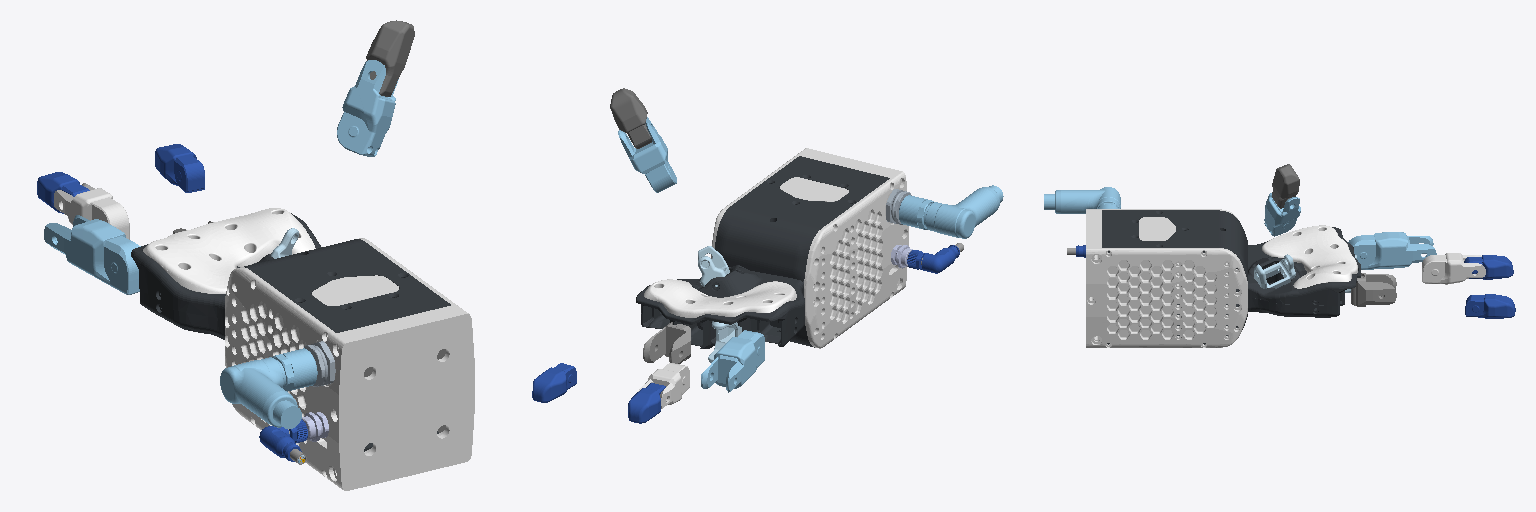
--- What the picture shows (computed from the rendered views, not written in the file) ---
The picture shows the robot from 3 angles, left to right: view 1: azimuth 30°, elevation 25°; view 2: azimuth 150°, elevation 25°; view 3: azimuth 270°, elevation 25°; orthographic projection.
Robot: Artus3D_RightHand — 21 links, 20 joints (20 revolute); root link right_-forearm_and_palm_subassembly; default pose: every joint at zero.
Links seen in each view (by area): view 1: right_-forearm_and_palm_subassembly, part_1_6, part_1_15, part_1_16, part_1_11, d1_urdf_mk_5_3, d1_urdf_mk_5_4; view 2: right_-forearm_and_palm_subassembly, part_1_6, part_1_15, part_1_16, part_1_4, d1_urdf_mk_5_3, part_1_11, d1_urdf_mk_5_4; view 3: right_-forearm_and_palm_subassembly, part_1_6, part_1_11, part_1_4, d1_urdf_mk_5_3, part_1_15, part_1_16, d1_urdf_mk_5_4.
Link boxes in pixels (box(x1,y1,x2,y2)): right_-forearm_and_palm_subassembly: box(131, 208, 474, 490); part_1_6: box(44, 215, 140, 294); part_1_15: box(337, 60, 398, 156); part_1_16: box(366, 20, 414, 96); part_1_11: box(54, 183, 129, 239); d1_urdf_mk_5_3: box(155, 144, 204, 192); d1_urdf_mk_5_4: box(37, 172, 89, 213); right_-forearm_and_palm_subassembly: box(636, 148, 1003, 362); part_1_6: box(701, 330, 764, 392); part_1_15: box(618, 117, 676, 192); part_1_16: box(610, 88, 651, 148); part_1_4: box(643, 322, 690, 363); d1_urdf_mk_5_3: box(532, 363, 576, 402); part_1_11: box(638, 363, 689, 408); d1_urdf_mk_5_4: box(628, 383, 665, 423); right_-forearm_and_palm_subassembly: box(1044, 187, 1360, 347); part_1_6: box(1348, 232, 1436, 269); part_1_11: box(1422, 253, 1485, 284); part_1_4: box(1351, 273, 1396, 306); d1_urdf_mk_5_3: box(1465, 294, 1515, 318); part_1_15: box(1264, 193, 1300, 236); part_1_16: box(1272, 164, 1299, 208); d1_urdf_mk_5_4: box(1464, 255, 1513, 279).
Size in the robot's own frame: 0.155 by 0.2963 by 0.1459 metres.
Meshes: 51 distinct files referenced, 34 mesh visuals loaded (34 binary STL); not drawn: 17 (reference not matched to a file when rendering).

robot.urdf — Artus3D_RightHand:
<robot name="Artus3D_RightHand">
<link name="right_-forearm_and_palm_subassembly">
<visual>
<origin xyz="-0.025099999999999754452 0.013609999999999483622 -0.008062086112100940935" rpy="-1.570796326794896558 1.570796326794896558 0" />
<geometry>
<mesh filename="meshes/connector_2.stl"/>
</geometry>
<material name="connector_2_material">
<color rgba="0.79215686274509800047 0.81960784313725487671 0.93333333333333334814 1.0"/>
</material>
</visual>
<collision>
<origin xyz="-0.025099999999999754452 0.013609999999999483622 -0.008062086112100940935" rpy="-1.570796326794896558 1.570796326794896558 0" />
<geometry>
<mesh filename="meshes/connector_2.stl"/>
</geometry>
</collision>
<visual>
<origin xyz="0.0079999999999999047567 0.17138739999999838548 -0.01336487137623817642" rpy="-3.141592653589793116 5.4234187233944715765e-30 3.0327332911413961158e-16" />
<geometry>
<mesh filename="meshes/front_palm_l.stl"/>
</geometry>
<material name="front_palm_l_material">
<color rgba="0.26274509803921569651 0.28235294117647058432 0.30196078431372547213 1.0"/>
</material>
</visual>
<collision>
<origin xyz="0.0079999999999999047567 0.17138739999999838548 -0.01336487137623817642" rpy="-3.141592653589793116 5.4234187233944715765e-30 3.0327332911413961158e-16" />
<geometry>
<mesh filename="meshes/front_palm_l.stl"/>
</geometry>
</collision>
<visual>
<origin xyz="0.0079999999999999047567 0.17138739999999838548 -0.01336487137623817642" rpy="-3.141592653589793116 5.4234187233944715765e-30 3.0327332911413961158e-16" />
<geometry>
<mesh filename="meshes/r_forearm_back_cover.stl"/>
</geometry>
<material name="r_forearm_back_cover_material">
<color rgba="0.26274509803921569651 0.28235294117647058432 0.30196078431372547213 1.0"/>
</material>
</visual>
<collision>
<origin xyz="0.0079999999999999047567 0.17138739999999838548 -0.01336487137623817642" rpy="-3.141592653589793116 5.4234187233944715765e-30 3.0327332911413961158e-16" />
<geometry>
<mesh filename="meshes/r_forearm_back_cover.stl"/>
</geometry>
</collision>
<visual>
<origin xyz="0.0079999999999999047567 0.17138739999999838548 -0.01336487137623817642" rpy="-3.141592653589793116 5.4234187233944715765e-30 3.0327332911413961158e-16" />
<geometry>
<mesh filename="meshes/back_palm_l.stl"/>
</geometry>
<material name="back_palm_l_material">
<color rgba="0.26274509803921569651 0.28235294117647058432 0.30196078431372547213 1.0"/>
</material>
</visual>
<collision>
<origin xyz="0.0079999999999999047567 0.17138739999999838548 -0.01336487137623817642" rpy="-3.141592653589793116 5.4234187233944715765e-30 3.0327332911413961158e-16" />
<geometry>
<mesh filename="meshes/back_palm_l.stl"/>
</geometry>
</collision>
<visual>
<origin xyz="0.035046330548281989792 0.24589133671515578383 -0.0017148713762385069028" rpy="-3.141592653589793116 -2.5884172552799687698e-15 -1.6406094968746700591" />
<geometry>
<mesh filename="meshes/d5_-_lindex.stl"/>
</geometry>
<material name="d5_-_lindex_material">
<color rgba="0.76862745098039220171 0.88627450980392152857 0.95294117647058818044 1.0"/>
</material>
</visual>
<collision>
<origin xyz="0.035046330548281989792 0.24589133671515578383 -0.0017148713762385069028" rpy="-3.141592653589793116 -2.5884172552799687698e-15 -1.6406094968746700591" />
<geometry>
<mesh filename="meshes/d5_-_lindex.stl"/>
</geometry>
</collision>
<visual>
<origin xyz="-0.057699986999999640369 0.0062349999999995117661 -0.008062086112100940935" rpy="-1.570796326794896558 8.0686821653836969142e-17 -1.7347249794050797149e-16" />
<geometry>
<mesh filename="meshes/7138k48_nano_m8_connector_12.stl"/>
</geometry>
<material name="7138k48_nano_m8_connector_12_material">
<color rgba="0.2313725490196078538 0.38039215686274507888 0.7058823529411765163 1.0"/>
</material>
</visual>
<collision>
<origin xyz="-0.057699986999999640369 0.0062349999999995117661 -0.008062086112100940935" rpy="-1.570796326794896558 8.0686821653836969142e-17 -1.7347249794050797149e-16" />
<geometry>
<mesh filename="meshes/7138k48_nano_m8_connector_12.stl"/>
</geometry>
</collision>
<visual>
<origin xyz="-0.057699986999999640369 0.0062349999999995117661 -0.008062086112100940935" rpy="-1.570796326794896558 8.0686821653836969142e-17 -1.7347249794050797149e-16" />
<geometry>
<mesh filename="meshes/7138k48_nano_m8_connector_1.stl"/>
</geometry>
<material name="7138k48_nano_m8_connector_1_material">
<color rgba="0.98039215686274505668 0.71372549019607844922 0.0039215686274509803377 1.0"/>
</material>
</visual>
<collision>
<origin xyz="-0.057699986999999640369 0.0062349999999995117661 -0.008062086112100940935" rpy="-1.570796326794896558 8.0686821653836969142e-17 -1.7347249794050797149e-16" />
<geometry>
<mesh filename="meshes/7138k48_nano_m8_connector_1.stl"/>
</geometry>
</collision>
<visual>
<origin xyz="0.0080000000000000626166 0.24913739999999620633 -0.004714871376238372741" rpy="3.141592653589793116 -2.522287934070094894e-15 -1.57079632679489678" />
<geometry>
<mesh filename="meshes/d5_-_lmiddle.stl"/>
</geometry>
<material name="d5_-_lmiddle_material">
<color rgba="0.76862745098039220171 0.88627450980392152857 0.95294117647058818044 1.0"/>
</material>
</visual>
<collision>
<origin xyz="0.0080000000000000626166 0.24913739999999620633 -0.004714871376238372741" rpy="3.141592653589793116 -2.522287934070094894e-15 -1.57079632679489678" />
<geometry>
<mesh filename="meshes/d5_-_lmiddle.stl"/>
</geometry>
</collision>
<visual>
<origin xyz="-0.057699986999999640369 0.0062349999999995117661 -0.008062086112100940935" rpy="-1.570796326794896558 8.0686821653836969142e-17 -1.7347249794050797149e-16" />
<geometry>
<mesh filename="meshes/7138k48_nano_m8_connector_5.stl"/>
</geometry>
<material name="7138k48_nano_m8_connector_5_material">
<color rgba="0.91764705882352937127 0.91764705882352937127 0.91764705882352937127 1.0"/>
</material>
</visual>
<collision>
<origin xyz="-0.057699986999999640369 0.0062349999999995117661 -0.008062086112100940935" rpy="-1.570796326794896558 8.0686821653836969142e-17 -1.7347249794050797149e-16" />
<geometry>
<mesh filename="meshes/7138k48_nano_m8_connector_5.stl"/>
</geometry>
</collision>
<visual>
<origin xyz="-0.057699986999999640369 0.0062349999999995117661 -0.008062086112100940935" rpy="-1.570796326794896558 8.0686821653836969142e-17 -1.7347249794050797149e-16" />
<geometry>
<mesh filename="meshes/7138k48_nano_m8_connector_11.stl"/>
</geometry>
<material name="7138k48_nano_m8_connector_11_material">
<color rgba="0.64705882352941179736 0.64705882352941179736 0.64705882352941179736 1.0"/>
</material>
</visual>
<collision>
<origin xyz="-0.057699986999999640369 0.0062349999999995117661 -0.008062086112100940935" rpy="-1.570796326794896558 8.0686821653836969142e-17 -1.7347249794050797149e-16" />
<geometry>
<mesh filename="meshes/7138k48_nano_m8_connector_11.stl"/>
</geometry>
</collision>
<visual>
<origin xyz="0.0079999999999999047567 0.17138739999999838548 -0.01336487137623817642" rpy="-3.141592653589793116 5.4234187233944715765e-30 3.0327332911413961158e-16" />
<geometry>
<mesh filename="meshes/forearm_base_plate.stl"/>
</geometry>
<material name="forearm_base_plate_material">
<color rgba="0.91764705882352937127 0.91764705882352937127 0.91764705882352937127 1.0"/>
</material>
</visual>
<collision>
<origin xyz="0.0079999999999999047567 0.17138739999999838548 -0.01336487137623817642" rpy="-3.141592653589793116 5.4234187233944715765e-30 3.0327332911413961158e-16" />
<geometry>
<mesh filename="meshes/forearm_base_plate.stl"/>
</geometry>
</collision>
<visual>
<origin xyz="-0.057699986999999640369 0.0062349999999995117661 -0.008062086112100940935" rpy="-1.570796326794896558 8.0686821653836969142e-17 -1.7347249794050797149e-16" />
<geometry>
<mesh filename="meshes/7138k48_nano_m8_connector_4.stl"/>
</geometry>
<material name="7138k48_nano_m8_connector_4_material">
<color rgba="0.2313725490196078538 0.38039215686274507888 0.7058823529411765163 1.0"/>
</material>
</visual>
<collision>
<origin xyz="-0.057699986999999640369 0.0062349999999995117661 -0.008062086112100940935" rpy="-1.570796326794896558 8.0686821653836969142e-17 -1.7347249794050797149e-16" />
<geometry>
<mesh filename="meshes/7138k48_nano_m8_connector_4.stl"/>
</geometry>
</collision>
<visual>
<origin xyz="-0.018149999999999777422 0.013609999999999566889 0.020237913887898896503" rpy="1.57079632679489678 0.52359877559830048099 1.570796326794896558" />
<geometry>
<mesh filename="meshes/c-t4140l12041-000.stl"/>
</geometry>
<material name="c-t4140l12041-000_material">
<color rgba="0.6941176470588235059 0.74117647058823532547 0.78823529411764703401 1.0"/>
</material>
</visual>
<collision>
<origin xyz="-0.018149999999999777422 0.013609999999999566889 0.020237913887898896503" rpy="1.57079632679489678 0.52359877559830048099 1.570796326794896558" />
<geometry>
<mesh filename="meshes/c-t4140l12041-000.stl"/>
</geometry>
</collision>
<visual>
<origin xyz="0.063565230829046442951 0.11880288651812657974 0.083840252677282151028" rpy="-2.0752759914175729072 1.0057357117289735804 3.1415926535897926719" />
<geometry>
<mesh filename="meshes/t5.stl"/>
</geometry>
<material name="t5_material">
<color rgba="0.76862745098039220171 0.88627450980392152857 0.95294117647058818044 1.0"/>
</material>
</visual>
<collision>
<origin xyz="0.063565230829046442951 0.11880288651812657974 0.083840252677282151028" rpy="-2.0752759914175729072 1.0057357117289735804 3.1415926535897926719" />
<geometry>
<mesh filename="meshes/t5.stl"/>
</geometry>
</collision>
<visual>
<origin xyz="-0.057699986999999640369 0.0062349999999995117661 -0.008062086112100940935" rpy="-1.570796326794896558 8.0686821653836969142e-17 -1.7347249794050797149e-16" />
<geometry>
<mesh filename="meshes/7138k48_nano_m8_connector_6.stl"/>
</geometry>
<material name="7138k48_nano_m8_connector_6_material">
<color rgba="0.76862745098039220171 0.88627450980392152857 0.95294117647058818044 1.0"/>
</material>
</visual>
<collision>
<origin xyz="-0.057699986999999640369 0.0062349999999995117661 -0.008062086112100940935" rpy="-1.570796326794896558 8.0686821653836969142e-17 -1.7347249794050797149e-16" />
<geometry>
<mesh filename="meshes/7138k48_nano_m8_connector_6.stl"/>
</geometry>
</collision>
<visual>
<origin xyz="-0.039349999999999704658 0.014171490036537262927 0.019987922417117141155" rpy="-1.57079632679489678 -2.3314683517128326792e-15 -1.570796326794896558" />
<geometry>
<mesh filename="meshes/c-t41514c9l14-002.stl"/>
</geometry>
<material name="c-t41514c9l14-002_material">
<color rgba="0.61568627450980395466 0.81176470588235294379 0.92941176470588238168 1.0"/>
</material>
</visual>
<collision>
<origin xyz="-0.039349999999999704658 0.014171490036537262927 0.019987922417117141155" rpy="-1.57079632679489678 -2.3314683517128326792e-15 -1.570796326794896558" />
<geometry>
<mesh filename="meshes/c-t41514c9l14-002.stl"/>
</geometry>
</collision>
<visual>
<origin xyz="0.0079999999999999047567 0.17138739999999838548 -0.01336487137623817642" rpy="-3.141592653589793116 5.4234187233944715765e-30 3.0327332911413961158e-16" />
<geometry>
<mesh filename="meshes/r_pinky_side_forearm_cover.stl"/>
</geometry>
<material name="r_pinky_side_forearm_cover_material">
<color rgba="0.91764705882352937127 0.91764705882352937127 0.91764705882352937127 1.0"/>
</material>
</visual>
<collision>
<origin xyz="0.0079999999999999047567 0.17138739999999838548 -0.01336487137623817642" rpy="-3.141592653589793116 5.4234187233944715765e-30 3.0327332911413961158e-16" />
<geometry>
<mesh filename="meshes/r_pinky_side_forearm_cover.stl"/>
</geometry>
</collision>
<visual>
<origin xyz="0.0079999999999999047567 0.17138739999999838548 -0.01336487137623817642" rpy="-3.141592653589793116 5.4234187233944715765e-30 3.0327332911413961158e-16" />
<geometry>
<mesh filename="meshes/r_forearm_front_cover.stl"/>
</geometry>
<material name="r_forearm_front_cover_material">
<color rgba="0.26274509803921569651 0.28235294117647058432 0.30196078431372547213 1.0"/>
</material>
</visual>
<collision>
<origin xyz="0.0079999999999999047567 0.17138739999999838548 -0.01336487137623817642" rpy="-3.141592653589793116 5.4234187233944715765e-30 3.0327332911413961158e-16" />
<geometry>
<mesh filename="meshes/r_forearm_front_cover.stl"/>
</geometry>
</collision>
<visual>
<origin xyz="-0.057699986999999640369 0.0062349999999995117661 -0.008062086112100940935" rpy="-1.570796326794896558 8.0686821653836969142e-17 -1.7347249794050797149e-16" />
<geometry>
<mesh filename="meshes/7138k48_nano_m8_connector_9.stl"/>
</geometry>
<material name="7138k48_nano_m8_connector_9_material">
<color rgba="0.98039215686274505668 0.71372549019607844922 0.0039215686274509803377 1.0"/>
</material>
</visual>
<collision>
<origin xyz="-0.057699986999999640369 0.0062349999999995117661 -0.008062086112100940935" rpy="-1.570796326794896558 8.0686821653836969142e-17 -1.7347249794050797149e-16" />
<geometry>
<mesh filename="meshes/7138k48_nano_m8_connector_9.stl"/>
</geometry>
</collision>
<visual>
<origin xyz="-0.057699986999999640369 0.0062349999999995117661 -0.008062086112100940935" rpy="-1.570796326794896558 8.0686821653836969142e-17 -1.7347249794050797149e-16" />
<geometry>
<mesh filename="meshes/7138k48_nano_m8_connector_3.stl"/>
</geometry>
<material name="7138k48_nano_m8_connector_3_material">
<color rgba="0.64705882352941179736 0.64705882352941179736 0.64705882352941179736 1.0"/>
</material>
</visual>
<collision>
<origin xyz="-0.057699986999999640369 0.0062349999999995117661 -0.008062086112100940935" rpy="-1.570796326794896558 8.0686821653836969142e-17 -1.7347249794050797149e-16" />
<geometry>
<mesh filename="meshes/7138k48_nano_m8_connector_3.stl"/>
</geometry>
</collision>
<visual>
<origin xyz="0.0079999999999999047567 0.17138739999999838548 -0.01336487137623817642" rpy="-3.141592653589793116 5.4234187233944715765e-30 3.0327332911413961158e-16" />
<geometry>
<mesh filename="meshes/forearm_front_heat_sink.stl"/>
</geometry>
<material name="forearm_front_heat_sink_material">
<color rgba="0.91764705882352937127 0.91764705882352937127 0.91764705882352937127 1.0"/>
</material>
</visual>
<collision>
<origin xyz="0.0079999999999999047567 0.17138739999999838548 -0.01336487137623817642" rpy="-3.141592653589793116 5.4234187233944715765e-30 3.0327332911413961158e-16" />
<geometry>
<mesh filename="meshes/forearm_front_heat_sink.stl"/>
</geometry>
</collision>
<visual>
<origin xyz="0.0080000000000000626166 0.17138739999999766384 -0.013364871376237964784" rpy="-3.1415926535897913396 1.4313686678903757259e-16 -1.1112954754289874996e-16" />
<geometry>
<mesh filename="meshes/palm_back_r.stl"/>
</geometry>
<material name="palm_back_r_material">
<color rgba="0.26274509803921569651 0.28235294117647058432 0.30196078431372547213 1.0"/>
</material>
</visual>
<collision>
<origin xyz="0.0080000000000000626166 0.17138739999999766384 -0.013364871376237964784" rpy="-3.1415926535897913396 1.4313686678903757259e-16 -1.1112954754289874996e-16" />
<geometry>
<mesh filename="meshes/palm_back_r.stl"/>
</geometry>
</collision>
<visual>
<origin xyz="-0.043294010592354839617 0.23659652304098566233 0.0012851286237618407549" rpy="3.1415926535897926719 6.6319954883948787931e-16 -1.4486232791552933197" />
<geometry>
<mesh filename="meshes/d5_-_lpinky.stl"/>
</geometry>
<material name="d5_-_lpinky_material">
<color rgba="0.76862745098039220171 0.88627450980392152857 0.95294117647058818044 1.0"/>
</material>
</visual>
<collision>
<origin xyz="-0.043294010592354839617 0.23659652304098566233 0.0012851286237618407549" rpy="3.1415926535897926719 6.6319954883948787931e-16 -1.4486232791552933197" />
<geometry>
<mesh filename="meshes/d5_-_lpinky.stl"/>
</geometry>
</collision>
<visual>
<origin xyz="-0.057699986999999640369 0.0062349999999995117661 -0.008062086112100940935" rpy="-1.570796326794896558 8.0686821653836969142e-17 -1.7347249794050797149e-16" />
<geometry>
<mesh filename="meshes/7138k48_nano_m8_connector_10.stl"/>
</geometry>
<material name="7138k48_nano_m8_connector_10_material">
<color rgba="0.61568627450980395466 0.81176470588235294379 0.92941176470588238168 1.0"/>
</material>
</visual>
<collision>
<origin xyz="-0.057699986999999640369 0.0062349999999995117661 -0.008062086112100940935" rpy="-1.570796326794896558 8.0686821653836969142e-17 -1.7347249794050797149e-16" />
<geometry>
<mesh filename="meshes/7138k48_nano_m8_connector_10.stl"/>
</geometry>
</collision>
<visual>
<origin xyz="0.0078000000000005287326 0.17138739999999619279 -0.013364871376237884987" rpy="-3.1415926535897917837 8.0686821653871950193e-17 -1.688474150743110369e-16" />
<geometry>
<mesh filename="meshes/palm_front_r.stl"/>
</geometry>
<material name="palm_front_r_material">
<color rgba="0.26274509803921569651 0.28235294117647058432 0.30196078431372547213 1.0"/>
</material>
</visual>
<collision>
<origin xyz="0.0078000000000005287326 0.17138739999999619279 -0.013364871376237884987" rpy="-3.1415926535897917837 8.0686821653871950193e-17 -1.688474150743110369e-16" />
<geometry>
<mesh filename="meshes/palm_front_r.stl"/>
</geometry>
</collision>
<visual>
<origin xyz="-0.057699986999999640369 0.0062349999999995117661 -0.008062086112100940935" rpy="-1.570796326794896558 8.0686821653836969142e-17 -1.7347249794050797149e-16" />
<geometry>
<mesh filename="meshes/7138k48_nano_m8_connector_7.stl"/>
</geometry>
<material name="7138k48_nano_m8_connector_7_material">
<color rgba="0.97254901960784312376 0.52941176470588235947 0.0039215686274509803377 1.0"/>
</material>
</visual>
<collision>
<origin xyz="-0.057699986999999640369 0.0062349999999995117661 -0.008062086112100940935" rpy="-1.570796326794896558 8.0686821653836969142e-17 -1.7347249794050797149e-16" />
<geometry>
<mesh filename="meshes/7138k48_nano_m8_connector_7.stl"/>
</geometry>
</collision>
<visual>
<origin xyz="-0.057699986999999640369 0.0062349999999995117661 -0.008062086112100940935" rpy="-1.570796326794896558 8.0686821653836969142e-17 -1.7347249794050797149e-16" />
<geometry>
<mesh filename="meshes/7138k48_nano_m8_connector_8.stl"/>
</geometry>
<material name="7138k48_nano_m8_connector_8_material">
<color rgba="0.49803921568627451677 0.49803921568627451677 0.49803921568627451677 1.0"/>
</material>
</visual>
<collision>
<origin xyz="-0.057699986999999640369 0.0062349999999995117661 -0.008062086112100940935" rpy="-1.570796326794896558 8.0686821653836969142e-17 -1.7347249794050797149e-16" />
<geometry>
<mesh filename="meshes/7138k48_nano_m8_connector_8.stl"/>
</geometry>
</collision>
<visual>
<origin xyz="0.0079999999999999047567 0.17138739999999838548 -0.01336487137623817642" rpy="-3.141592653589793116 5.4234187233944715765e-30 3.0327332911413961158e-16" />
<geometry>
<mesh filename="meshes/r_thumb_side_forearm_cover.stl"/>
</geometry>
<material name="r_thumb_side_forearm_cover_material">
<color rgba="0.91764705882352937127 0.91764705882352937127 0.91764705882352937127 1.0"/>
</material>
</visual>
<collision>
<origin xyz="0.0079999999999999047567 0.17138739999999838548 -0.01336487137623817642" rpy="-3.141592653589793116 5.4234187233944715765e-30 3.0327332911413961158e-16" />
<geometry>
<mesh filename="meshes/r_thumb_side_forearm_cover.stl"/>
</geometry>
</collision>
<visual>
<origin xyz="0.0078000000000005287326 0.17138739999999630381 -0.01336487137623786764" rpy="-3.1415926535897904515 8.0686821653872048801e-17 -4.6259492041892851877e-16" />
<geometry>
<mesh filename="meshes/palm_grip.stl"/>
</geometry>
<material name="palm_grip_material">
<color rgba="1 1 1 1.0"/>
</material>
</visual>
<collision>
<origin xyz="0.0078000000000005287326 0.17138739999999630381 -0.01336487137623786764" rpy="-3.1415926535897904515 8.0686821653872048801e-17 -4.6259492041892851877e-16" />
<geometry>
<mesh filename="meshes/palm_grip.stl"/>
</geometry>
</collision>
<visual>
<origin xyz="-0.057699986999999640369 0.0062349999999995117661 -0.008062086112100940935" rpy="-1.570796326794896558 8.0686821653836969142e-17 -1.7347249794050797149e-16" />
<geometry>
<mesh filename="meshes/7138k48_nano_m8_connector_2.stl"/>
</geometry>
<material name="7138k48_nano_m8_connector_2_material">
<color rgba="0.61568627450980395466 0.81176470588235294379 0.92941176470588238168 1.0"/>
</material>
</visual>
<collision>
<origin xyz="-0.057699986999999640369 0.0062349999999995117661 -0.008062086112100940935" rpy="-1.570796326794896558 8.0686821653836969142e-17 -1.7347249794050797149e-16" />
<geometry>
<mesh filename="meshes/7138k48_nano_m8_connector_2.stl"/>
</geometry>
</collision>
<visual>
<origin xyz="-0.018788342132245831884 0.24450351508949383361 -0.0017148713762382148187" rpy="3.141592653589793116 5.9969295794072213994e-16 -1.500983156715123279" />
<geometry>
<mesh filename="meshes/d5-_lring.stl"/>
</geometry>
<material name="d5-_lring_material">
<color rgba="0.76862745098039220171 0.88627450980392152857 0.95294117647058818044 1.0"/>
</material>
</visual>
<collision>
<origin xyz="-0.018788342132245831884 0.24450351508949383361 -0.0017148713762382148187" rpy="3.141592653589793116 5.9969295794072213994e-16 -1.500983156715123279" />
<geometry>
<mesh filename="meshes/d5-_lring.stl"/>
</geometry>
</collision>
<inertial>
<origin xyz="-9.9999382089141890533e-05 0.064166608240781700112 0.0017225184058983781989" rpy="0 0 0"/>
<mass value="0.25195305876702372982" />
<inertia ixx="0.00086496244124082528014" ixy="7.3010115954321035711e-07"  ixz="1.8030521852168538022e-06" iyy="0.00020193692035790235641" iyz="-1.1068846188418243752e-06" izz="0.00090898002504705924937" />
</inertial>
</link>

<link name="part_1_1">
<visual>
<origin xyz="-0.0049999999999999489297 1.2143064331837649661e-17 -0.018500000000000099698" rpy="-1.4485681946286612004e-16 8.5979375613828697011e-16 -1.3871124876468463117e-18" />
<geometry>
<mesh filename="meshes/part_1_1.stl"/>
</geometry>
<material name="part_1_1_material">
<color rgba="0.64705882352941179736 0.64705882352941179736 0.64705882352941179736 1.0"/>
</material>
</visual>
<collision>
<origin xyz="-0.0049999999999999489297 1.2143064331837649661e-17 -0.018500000000000099698" rpy="-1.4485681946286612004e-16 8.5979375613828697011e-16 -1.3871124876468463117e-18" />
<geometry>
<mesh filename="meshes/part_1_1.stl"/>
</geometry>
</collision>
<inertial>
<origin xyz="0 0 0" rpy="0 0 0"/>
<mass value="0" />
<inertia ixx="0" ixy="0"  ixz="0" iyy="0" iyz="0" izz="0" />
</inertial>
</link>

<link name="part_1_6">
<visual>
<origin xyz="-0.028552407289709619276 -0.007858976793889109122 -0.0060000000000051314369" rpy="-1.570796326794896558 9.2087746988800280313e-16 -3.4737542986285525174e-21" />
<geometry>
<mesh filename="meshes/part_1_6.stl"/>
</geometry>
<material name="part_1_6_material">
<color rgba="0.61568627450980395466 0.81176470588235294379 0.92941176470588238168 1.0"/>
</material>
</visual>
<collision>
<origin xyz="-0.028552407289709619276 -0.007858976793889109122 -0.0060000000000051314369" rpy="-1.570796326794896558 9.2087746988800280313e-16 -3.4737542986285525174e-21" />
<geometry>
<mesh filename="meshes/part_1_6.stl"/>
</geometry>
</collision>
<inertial>
<origin xyz="0 0 0" rpy="0 0 0"/>
<mass value="0" />
<inertia ixx="0" ixy="0"  ixz="0" iyy="0" iyz="0" izz="0" />
</inertial>
</link>

<link name="part_1_12">
<visual>
<origin xyz="-0.01752480301803874263 -0.0071295923980049134491 -0.0050000000000002091383" rpy="-1.5707963267948970021 3.7809615218215366599e-16 5.4045675959656930847e-20" />
<geometry>
<mesh filename="meshes/part_1_12.stl"/>
</geometry>
<material name="part_1_12_material">
<color rgba="0.91764705882352937127 0.91764705882352937127 0.91764705882352937127 1.0"/>
</material>
</visual>
<collision>
<origin xyz="-0.01752480301803874263 -0.0071295923980049134491 -0.0050000000000002091383" rpy="-1.5707963267948970021 3.7809615218215366599e-16 5.4045675959656930847e-20" />
<geometry>
<mesh filename="meshes/part_1_12.stl"/>
</geometry>
</collision>
<inertial>
<origin xyz="0 0 0" rpy="0 0 0"/>
<mass value="0" />
<inertia ixx="0" ixy="0"  ixz="0" iyy="0" iyz="0" izz="0" />
</inertial>
</link>

<link name="d1_urdf_mk_5_1">
<visual>
<origin xyz="-0.0090000000000002022826 -0.0059999999999999636957 -0.0047499999999967203873" rpy="-1.5707963267948961139 7.5354498513863890534e-17 -1.4565185079904793187e-20" />
<geometry>
<mesh filename="meshes/d1_urdf_mk_5_1.stl"/>
</geometry>
<material name="d1_urdf_mk_5_1_material">
<color rgba="0.2313725490196078538 0.38039215686274507888 0.7058823529411765163 1.0"/>
</material>
</visual>
<collision>
<origin xyz="-0.0090000000000002022826 -0.0059999999999999636957 -0.0047499999999967203873" rpy="-1.5707963267948961139 7.5354498513863890534e-17 -1.4565185079904793187e-20" />
<geometry>
<mesh filename="meshes/d1_urdf_mk_5_1.stl"/>
</geometry>
</collision>
<inertial>
<origin xyz="0 0 0" rpy="0 0 0"/>
<mass value="0" />
<inertia ixx="0" ixy="0"  ixz="0" iyy="0" iyz="0" izz="0" />
</inertial>
</link>

<joint name="Rpinky_34" type="revolute">
<origin xyz="-0.024999999999999994449 -2.8839777788114417945e-17 -0.00025000000000002277345" rpy="5.8531950530088390355e-17 5.1950536919798949372e-15 -1.5054163260527307232e-16" />
<parent link="part_1_12" />
<child link="d1_urdf_mk_5_1" />
<axis xyz="0 0 1"/>
<limit effort="1" velocity="20" lower="0" upper="1.570796326794896558"/>
<joint_properties friction="0.0"/>
</joint>

<joint name="Rpinky_23" type="revolute">
<origin xyz="-0.038000000000001005196 0.00075000000000000435242 -0.00075000000000013423984" rpy="-5.1007064378828638753e-19 -7.4453180216764473775e-15 -4.1004953941860625937e-19" />
<parent link="part_1_6" />
<child link="part_1_12" />
<axis xyz="0 0 1"/>
<limit effort="1" velocity="20" lower="0" upper="1.570796326794896558"/>
<joint_properties friction="0.0"/>
</joint>

<joint name="Rpinky_12" type="revolute">
<origin xyz="-0.014749999999999929834 -0.0060000000000000018596 -0.0095000000000000431322" rpy="1.570796326794896558 -0.00021543111717824177799 6.0797937546296663372e-15" />
<parent link="part_1_1" />
<child link="part_1_6" />
<axis xyz="0 0 1"/>
<limit effort="1" velocity="20" lower="0" upper="1.570796326794896558"/>
<joint_properties friction="0.0"/>
</joint>

<joint name="Rpinky_01" type="revolute">
<origin xyz="-0.033818669142604805555 0.15942605975087462133 -0.007464871376238052525" rpy="3.1415926535897926719 1.0399088061438540206e-15 -1.4486232791552933197" />
<parent link="right_-forearm_and_palm_subassembly" />
<child link="part_1_1" />
<axis xyz="0 0 1"/>
<limit effort="1" velocity="20" lower="-0.29670597283903604735" upper="0.29670597283903604735"/>
<joint_properties friction="0.0"/>
</joint>

<link name="part_1_2">
<visual>
<origin xyz="-0.0049999999999999489297 1.4528309111305759416e-17 -0.018500000000000103167" rpy="-1.4485681946286604609e-16 8.5979375613828716732e-16 7.2214627010546480255e-18" />
<geometry>
<mesh filename="meshes/part_1_2.stl"/>
</geometry>
<material name="part_1_2_material">
<color rgba="0.64705882352941179736 0.64705882352941179736 0.64705882352941179736 1.0"/>
</material>
</visual>
<collision>
<origin xyz="-0.0049999999999999489297 1.4528309111305759416e-17 -0.018500000000000103167" rpy="-1.4485681946286604609e-16 8.5979375613828716732e-16 7.2214627010546480255e-18" />
<geometry>
<mesh filename="meshes/part_1_2.stl"/>
</geometry>
</collision>
<inertial>
<origin xyz="0 0 0" rpy="0 0 0"/>
<mass value="0" />
<inertia ixx="0" ixy="0"  ixz="0" iyy="0" iyz="0" izz="0" />
</inertial>
</link>

<link name="part_1_7">
<visual>
<origin xyz="-0.028552407289709647031 -0.0078589767938891923887 -0.0060000000000051149571" rpy="-1.570796326794896558 9.199491557559354721e-16 -2.1514047435132745453e-18" />
<geometry>
<mesh filename="meshes/part_1_7.stl"/>
</geometry>
<material name="part_1_7_material">
<color rgba="0.61568627450980395466 0.81176470588235294379 0.92941176470588238168 1.0"/>
</material>
</visual>
<collision>
<origin xyz="-0.028552407289709647031 -0.0078589767938891923887 -0.0060000000000051149571" rpy="-1.570796326794896558 9.199491557559354721e-16 -2.1514047435132745453e-18" />
<geometry>
<mesh filename="meshes/part_1_7.stl"/>
</geometry>
</collision>
<inertial>
<origin xyz="0 0 0" rpy="0 0 0"/>
<mass value="0" />
<inertia ixx="0" ixy="0"  ixz="0" iyy="0" iyz="0" izz="0" />
</inertial>
</link>

<link name="part_1_11">
<visual>
<origin xyz="-0.017524803018038770386 -0.0071295923980055925934 -0.005250000000000198952" rpy="-1.5707963267948970021 5.1885812075602097821e-16 -8.0683530477004213447e-20" />
<geometry>
<mesh filename="meshes/part_1_11.stl"/>
</geometry>
<material name="part_1_11_material">
<color rgba="0.91764705882352937127 0.91764705882352937127 0.91764705882352937127 1.0"/>
</material>
</visual>
<collision>
<origin xyz="-0.017524803018038770386 -0.0071295923980055925934 -0.005250000000000198952" rpy="-1.5707963267948970021 5.1885812075602097821e-16 -8.0683530477004213447e-20" />
<geometry>
<mesh filename="meshes/part_1_11.stl"/>
</geometry>
</collision>
<inertial>
<origin xyz="0 0 0" rpy="0 0 0"/>
<mass value="0" />
<inertia ixx="0" ixy="0"  ixz="0" iyy="0" iyz="0" izz="0" />
</inertial>
</link>

<link name="d1_urdf_mk_5_4">
<visual>
<origin xyz="-0.0090000000000002022826 -0.005999999999999961961 -0.004749999999996722122" rpy="-1.5707963267948961139 6.4848608194024491322e-17 1.3303801138012662543e-19" />
<geometry>
<mesh filename="meshes/d1_urdf_mk_5_4.stl"/>
</geometry>
<material name="d1_urdf_mk_5_4_material">
<color rgba="0.2313725490196078538 0.38039215686274507888 0.7058823529411765163 1.0"/>
</material>
</visual>
<collision>
<origin xyz="-0.0090000000000002022826 -0.005999999999999961961 -0.004749999999996722122" rpy="-1.5707963267948961139 6.4848608194024491322e-17 1.3303801138012662543e-19" />
<geometry>
<mesh filename="meshes/d1_urdf_mk_5_4.stl"/>
</geometry>
</collision>
<inertial>
<origin xyz="0 0 0" rpy="0 0 0"/>
<mass value="0" />
<inertia ixx="0" ixy="0"  ixz="0" iyy="0" iyz="0" izz="0" />
</inertial>
</link>

<joint name="Rring_34" type="revolute">
<origin xyz="-0.024999999999999744649 -6.8521577301083880229e-16 -0.00050000000000053734101" rpy="6.4013650830963731476e-15 2.5773728246414229148e-14 2.1439584744543947209e-15" />
<parent link="part_1_11" />
<child link="d1_urdf_mk_5_4" />
<axis xyz="0 0 1"/>
<limit effort="1" velocity="20" lower="0" upper="1.570796326794896558"/>
<joint_properties friction="0.0"/>
</joint>

<joint name="Rring_23" type="revolute">
<origin xyz="-0.038000000000001032952 0.00074999999999993821609 -0.00074999999999998418626" rpy="2.3096603897899667067e-17 3.0361297258279414137e-15 1.6929381801025689136e-17" />
<parent link="part_1_7" />
<child link="part_1_11" />
<axis xyz="0 0 1"/>
<limit effort="1" velocity="20" lower="0" upper="1.570796326794896558"/>
<joint_properties friction="0.0"/>
</joint>

<joint name="Rring_12" type="revolute">
<origin xyz="-0.014749999999999957589 -0.0060000000000000001249 -0.0095000000000000431322" rpy="1.570796326794896558 -0.0084320066648236064594 7.4164223107249760894e-15" />
<parent link="part_1_2" />
<child link="part_1_7" />
<axis xyz="0 0 1"/>
<limit effort="1" velocity="20" lower="0" upper="1.570796326794896558"/>
<joint_properties friction="0.0"/>
</joint>

<joint name="Rring_01" type="revolute">
<origin xyz="-0.013364776298640251503 0.16694291018179480135 -0.010464871376238049985" rpy="3.141592653589793116 1.4667508759564250791e-15 -1.5009831567151239451" />
<parent link="right_-forearm_and_palm_subassembly" />
<child link="part_1_2" />
<axis xyz="0 0 1"/>
<limit effort="1" velocity="20" lower="-0.29670597283903604735" upper="0.29670597283903604735"/>
<joint_properties friction="0.0"/>
</joint>

<link name="part_1_4">
<visual>
<origin xyz="-0.0049999999999999489297 3.8163916471489756077e-17 -0.018500000000000106637" rpy="-1.4485681946286607074e-16 8.5979375613828706871e-16 8.89295694995237463e-33" />
<geometry>
<mesh filename="meshes/part_1_4.stl"/>
</geometry>
<material name="part_1_4_material">
<color rgba="0.64705882352941179736 0.64705882352941179736 0.64705882352941179736 1.0"/>
</material>
</visual>
<collision>
<origin xyz="-0.0049999999999999489297 3.8163916471489756077e-17 -0.018500000000000106637" rpy="-1.4485681946286607074e-16 8.5979375613828706871e-16 8.89295694995237463e-33" />
<geometry>
<mesh filename="meshes/part_1_4.stl"/>
</geometry>
</collision>
<inertial>
<origin xyz="0 0 0" rpy="0 0 0"/>
<mass value="0" />
<inertia ixx="0" ixy="0"  ixz="0" iyy="0" iyz="0" izz="0" />
</inertial>
</link>

<link name="part_1_5">
<visual>
<origin xyz="-0.028552407289709619276 -0.0078589767938891108567 -0.0060000000000051279675" rpy="-1.570796326794896558 9.1312390131153708957e-16 -1.8642824289394265503e-20" />
<geometry>
<mesh filename="meshes/part_1_5.stl"/>
</geometry>
<material name="part_1_5_material">
<color rgba="0.61568627450980395466 0.81176470588235294379 0.92941176470588238168 1.0"/>
</material>
</visual>
<collision>
<origin xyz="-0.028552407289709619276 -0.0078589767938891108567 -0.0060000000000051279675" rpy="-1.570796326794896558 9.1312390131153708957e-16 -1.8642824289394265503e-20" />
<geometry>
<mesh filename="meshes/part_1_5.stl"/>
</geometry>
</collision>
<inertial>
<origin xyz="0 0 0" rpy="0 0 0"/>
<mass value="0" />
<inertia ixx="0" ixy="0"  ixz="0" iyy="0" iyz="0" izz="0" />
</inertial>
</link>

<link name="part_1_10">
<visual>
<origin xyz="-0.017524803018038770386 -0.0071295923980055943281 -0.0052500000000001972172" rpy="-1.5707963267948970021 5.1781495757909496288e-16 -1.0683552993335580234e-20" />
<geometry>
<mesh filename="meshes/part_1_10.stl"/>
</geometry>
<material name="part_1_10_material">
<color rgba="0.91764705882352937127 0.91764705882352937127 0.91764705882352937127 1.0"/>
</material>
</visual>
<collision>
<origin xyz="-0.017524803018038770386 -0.0071295923980055943281 -0.0052500000000001972172" rpy="-1.5707963267948970021 5.1781495757909496288e-16 -1.0683552993335580234e-20" />
<geometry>
<mesh filename="meshes/part_1_10.stl"/>
</geometry>
</collision>
<inertial>
<origin xyz="0 0 0" rpy="0 0 0"/>
<mass value="0" />
<inertia ixx="0" ixy="0"  ixz="0" iyy="0" iyz="0" izz="0" />
</inertial>
</link>

<link name="d1_urdf_mk_5_2">
<visual>
<origin xyz="-0.0090000000000001467715 -0.0059999999999999628283 -0.0047499999999967203873" rpy="-1.5707963267948961139 8.3887279286790611569e-17 5.6298189567398223051e-22" />
<geometry>
<mesh filename="meshes/d1_urdf_mk_5_2.stl"/>
</geometry>
<material name="d1_urdf_mk_5_2_material">
<color rgba="0.2313725490196078538 0.38039215686274507888 0.7058823529411765163 1.0"/>
</material>
</visual>
<collision>
<origin xyz="-0.0090000000000001467715 -0.0059999999999999628283 -0.0047499999999967203873" rpy="-1.5707963267948961139 8.3887279286790611569e-17 5.6298189567398223051e-22" />
<geometry>
<mesh filename="meshes/d1_urdf_mk_5_2.stl"/>
</geometry>
</collision>
<inertial>
<origin xyz="0 0 0" rpy="0 0 0"/>
<mass value="0" />
<inertia ixx="0" ixy="0"  ixz="0" iyy="0" iyz="0" izz="0" />
</inertial>
</link>

<joint name="Rmiddle_34" type="revolute">
<origin xyz="-0.024999999999999994449 -7.0950190167451410161e-16 -0.00050000000000001085243" rpy="2.1112792124637222662e-15 4.2282540904663028594e-15 1.4703029479179967952e-15" />
<parent link="part_1_10" />
<child link="d1_urdf_mk_5_2" />
<axis xyz="0 0 1"/>
<limit effort="1" velocity="20" lower="0" upper="1.570796326794896558"/>
<joint_properties friction="0.0"/>
</joint>

<joint name="Rmiddle_23" type="revolute">
<origin xyz="-0.038000000000001060707 0.0007500000000000240849 -0.00074999999999999199252" rpy="-2.9397682155232943803e-19 -8.8817841970012507457e-15 -1.2706303861153298997e-19" />
<parent link="part_1_5" />
<child link="part_1_10" />
<axis xyz="0 0 1"/>
<limit effort="1" velocity="20" lower="0" upper="1.570796326794896558"/>
<joint_properties friction="0.0"/>
</joint>

<joint name="Rmiddle_12" type="revolute">
<origin xyz="-0.014749999999999874323 -0.0059999999999999758388 -0.0095000000000000466016" rpy="1.570796326794896558 -0.00023234185639790731867 1.7634682316292334031e-14" />
<parent link="part_1_4" />
<child link="part_1_5" />
<axis xyz="0 0 1"/>
<limit effort="1" velocity="20" lower="0" upper="1.570796326794896558"/>
<joint_properties friction="0.0"/>
</joint>

<joint name="Rmiddle_01" type="revolute">
<origin xyz="0.0080000000000000886374 0.17138739999999760832 -0.013464871376238059589" rpy="3.141592653589793116 -1.6544891460574565518e-15 -1.57079632679489678" />
<parent link="right_-forearm_and_palm_subassembly" />
<child link="part_1_4" />
<axis xyz="0 0 1"/>
<limit effort="1" velocity="20" lower="-0.29670597283903604735" upper="0.29670597283903604735"/>
<joint_properties friction="0.0"/>
</joint>

<link name="part_1_3">
<visual>
<origin xyz="-0.0049999999999999766853 1.0408340855860842566e-17 -0.01831458565330660454" rpy="-1.4485681946286609539e-16 8.5979375613828736454e-16 -4.7960275618789167375e-18" />
<geometry>
<mesh filename="meshes/part_1_3.stl"/>
</geometry>
<material name="part_1_3_material">
<color rgba="0.64705882352941179736 0.64705882352941179736 0.64705882352941179736 1.0"/>
</material>
</visual>
<collision>
<origin xyz="-0.0049999999999999766853 1.0408340855860842566e-17 -0.01831458565330660454" rpy="-1.4485681946286609539e-16 8.5979375613828736454e-16 -4.7960275618789167375e-18" />
<geometry>
<mesh filename="meshes/part_1_3.stl"/>
</geometry>
</collision>
<inertial>
<origin xyz="0 0 0" rpy="0 0 0"/>
<mass value="0" />
<inertia ixx="0" ixy="0"  ixz="0" iyy="0" iyz="0" izz="0" />
</inertial>
</link>

<link name="part_1_8">
<visual>
<origin xyz="-0.02855240728970959152 -0.007858976793889109122 -0.0060000000000051366411" rpy="-1.570796326794896558 9.0892961387071763956e-16 -1.4940706051306780416e-31" />
<geometry>
<mesh filename="meshes/part_1_8.stl"/>
</geometry>
<material name="part_1_8_material">
<color rgba="0.61568627450980395466 0.81176470588235294379 0.92941176470588238168 1.0"/>
</material>
</visual>
<collision>
<origin xyz="-0.02855240728970959152 -0.007858976793889109122 -0.0060000000000051366411" rpy="-1.570796326794896558 9.0892961387071763956e-16 -1.4940706051306780416e-31" />
<geometry>
<mesh filename="meshes/part_1_8.stl"/>
</geometry>
</collision>
<inertial>
<origin xyz="0 0 0" rpy="0 0 0"/>
<mass value="0" />
<inertia ixx="0" ixy="0"  ixz="0" iyy="0" iyz="0" izz="0" />
</inertial>
</link>

<link name="part_1_9">
<visual>
<origin xyz="-0.01752480301803874263 -0.0071295923980055934607 -0.005250000000000198952" rpy="-1.5707963267948970021 5.0120804174936174337e-16 0" />
<geometry>
<mesh filename="meshes/part_1_9.stl"/>
</geometry>
<material name="part_1_9_material">
<color rgba="0.91764705882352937127 0.91764705882352937127 0.91764705882352937127 1.0"/>
</material>
</visual>
<collision>
<origin xyz="-0.01752480301803874263 -0.0071295923980055934607 -0.005250000000000198952" rpy="-1.5707963267948970021 5.0120804174936174337e-16 0" />
<geometry>
<mesh filename="meshes/part_1_9.stl"/>
</geometry>
</collision>
<inertial>
<origin xyz="0 0 0" rpy="0 0 0"/>
<mass value="0" />
<inertia ixx="0" ixy="0"  ixz="0" iyy="0" iyz="0" izz="0" />
</inertial>
</link>

<link name="d1_urdf_mk_5_3">
<visual>
<origin xyz="-0.0090000000000001745271 -0.005999999999999961961 -0.0047499999999967151831" rpy="-1.5707963267948961139 8.1770595005316305547e-17 8.5623916193067716874e-33" />
<geometry>
<mesh filename="meshes/d1_urdf_mk_5_3.stl"/>
</geometry>
<material name="d1_urdf_mk_5_3_material">
<color rgba="0.2313725490196078538 0.38039215686274507888 0.7058823529411765163 1.0"/>
</material>
</visual>
<collision>
<origin xyz="-0.0090000000000001745271 -0.005999999999999961961 -0.0047499999999967151831" rpy="-1.5707963267948961139 8.1770595005316305547e-17 8.5623916193067716874e-33" />
<geometry>
<mesh filename="meshes/d1_urdf_mk_5_3.stl"/>
</geometry>
</collision>
<inertial>
<origin xyz="0 0 0" rpy="0 0 0"/>
<mass value="0" />
<inertia ixx="0" ixy="0"  ixz="0" iyy="0" iyz="0" izz="0" />
</inertial>
</link>

<joint name="Rindex_34" type="revolute">
<origin xyz="-0.024999999999999911182 -7.0212932690161267146e-16 0.00025000000000008348877" rpy="7.4240582250389793858e-29 3.5350409787859061583e-15 -4.1034671378148210959e-16" />
<parent link="part_1_9" />
<child link="d1_urdf_mk_5_3" />
<axis xyz="0 0 1"/>
<limit effort="1" velocity="20" lower="0" upper="1.570796326794896558"/>
<joint_properties friction="0.0"/>
</joint>

<joint name="Rindex_23" type="revolute">
<origin xyz="-0.038000000000001893374 0.00075000000000001107447 1.1796119636642288242e-16" rpy="2.2371602234002138676e-30 -3.4459329146801910899e-16 4.7808165792185426355e-32" />
<parent link="part_1_8" />
<child link="part_1_9" />
<axis xyz="0 0 1"/>
<limit effort="1" velocity="20" lower="0" upper="1.570796326794896558"/>
<joint_properties friction="0.0"/>
</joint>

<joint name="Rindex_12" type="revolute">
<origin xyz="-0.014749999999999929834 -0.0059999999999999983902 -0.0093145856533065410354" rpy="1.570796326794896558 -2.5728434691242042365e-15 4.2832613627015727541e-16" />
<parent link="part_1_3" />
<child link="part_1_8" />
<axis xyz="0 0 1"/>
<limit effort="1" velocity="20" lower="0" upper="1.570796326794896558"/>
<joint_properties friction="0.0"/>
</joint>

<joint name="Rindex_01" type="revolute">
<origin xyz="0.029622764714676740744 0.16833073180745675157 -0.010464871376238074271" rpy="-3.141592653589793116 -1.7205498556985711885e-15 -1.640609496874599893" />
<parent link="right_-forearm_and_palm_subassembly" />
<child link="part_1_3" />
<axis xyz="0 0 1"/>
<limit effort="1" velocity="20" lower="-0.29670597283903604735" upper="0.29670597283903604735"/>
<joint_properties friction="0.0"/>
</joint>

<link name="part_1_13">
<visual>
<origin xyz="-0.0049999999999999836242 0 0.00062867965644038126261" rpy="-3.141592653589793116 2.8412180052083664035e-17 -1.0362953928005868636e-17" />
<geometry>
<mesh filename="meshes/part_1_13.stl"/>
</geometry>
<material name="part_1_13_material">
<color rgba="0.2313725490196078538 0.38039215686274507888 0.7058823529411765163 1.0"/>
</material>
</visual>
<collision>
<origin xyz="-0.0049999999999999836242 0 0.00062867965644038126261" rpy="-3.141592653589793116 2.8412180052083664035e-17 -1.0362953928005868636e-17" />
<geometry>
<mesh filename="meshes/part_1_13.stl"/>
</geometry>
</collision>
<inertial>
<origin xyz="0 0 0" rpy="0 0 0"/>
<mass value="0" />
<inertia ixx="0" ixy="0"  ixz="0" iyy="0" iyz="0" izz="0" />
</inertial>
</link>

<link name="part_1_14">
<visual>
<origin xyz="-0.02927735623681019389 -0.0078134566939175864597 -0.0067500000000003251843" rpy="-1.570796326794896336 3.5957415181266592233e-16 -3.9248096413004967227e-17" />
<geometry>
<mesh filename="meshes/part_1_14.stl"/>
</geometry>
<material name="part_1_14_material">
<color rgba="0.64705882352941179736 0.64705882352941179736 0.64705882352941179736 1.0"/>
</material>
</visual>
<collision>
<origin xyz="-0.02927735623681019389 -0.0078134566939175864597 -0.0067500000000003251843" rpy="-1.570796326794896336 3.5957415181266592233e-16 -3.9248096413004967227e-17" />
<geometry>
<mesh filename="meshes/part_1_14.stl"/>
</geometry>
</collision>
<inertial>
<origin xyz="0 0 0" rpy="0 0 0"/>
<mass value="0" />
<inertia ixx="0" ixy="0"  ixz="0" iyy="0" iyz="0" izz="0" />
</inertial>
</link>

<link name="part_1_15">
<visual>
<origin xyz="-0.01752480301803861773 -0.0071295923980051884028 -0.0062499999999999431011" rpy="-1.57079632679489678 5.9563816754776738757e-16 2.2641152229285319928e-17" />
<geometry>
<mesh filename="meshes/part_1_15.stl"/>
</geometry>
<material name="part_1_15_material">
<color rgba="0.61568627450980395466 0.81176470588235294379 0.92941176470588238168 1.0"/>
</material>
</visual>
<collision>
<origin xyz="-0.01752480301803861773 -0.0071295923980051884028 -0.0062499999999999431011" rpy="-1.57079632679489678 5.9563816754776738757e-16 2.2641152229285319928e-17" />
<geometry>
<mesh filename="meshes/part_1_15.stl"/>
</geometry>
</collision>
<inertial>
<origin xyz="0 0 0" rpy="0 0 0"/>
<mass value="0" />
<inertia ixx="0" ixy="0"  ixz="0" iyy="0" iyz="0" izz="0" />
</inertial>
</link>

<link name="part_1_16">
<visual>
<origin xyz="-0.0089999999999997304378 -0.0060000000000001024736 -0.0057500000000045153881" rpy="-1.570796326794896558 3.4801876389228566673e-16 5.2417229469240623582e-17" />
<geometry>
<mesh filename="meshes/part_1_16.stl"/>
</geometry>
<material name="part_1_16_material">
<color rgba="0.49803921568627451677 0.49803921568627451677 0.49803921568627451677 1.0"/>
</material>
</visual>
<collision>
<origin xyz="-0.0089999999999997304378 -0.0060000000000001024736 -0.0057500000000045153881" rpy="-1.570796326794896558 3.4801876389228566673e-16 5.2417229469240623582e-17" />
<geometry>
<mesh filename="meshes/part_1_16.stl"/>
</geometry>
</collision>
<inertial>
<origin xyz="0 0 0" rpy="0 0 0"/>
<mass value="0" />
<inertia ixx="0" ixy="0"  ixz="0" iyy="0" iyz="0" izz="0" />
</inertial>
</link>

<joint name="Rthumb_34" type="revolute">
<origin xyz="-0.02499999999999967526 -4.3021142204224815941e-16 0.0010000000000001674216" rpy="1.5100914587471960572e-14 6.0564979084029330379e-15 3.2240668987608148028e-15" />
<parent link="part_1_15" />
<child link="part_1_16" />
<axis xyz="0 0 1"/>
<limit effort="1" velocity="20" lower="0" upper="1.570796326794896558"/>
<joint_properties friction="0.0"/>
</joint>

<joint name="Rthumb_23" type="revolute">
<origin xyz="-0.038000000000000748457 0.00075000000000033373304 -0.00049999999999996574962" rpy="4.356240256702371216e-15 -1.0808697371298254794e-14 1.502608612091488014e-15" />
<parent link="part_1_14" />
<child link="part_1_15" />
<axis xyz="0 0 1"/>
<limit effort="1" velocity="20" lower="0" upper="1.570796326794896558"/>
<joint_properties friction="0.0"/>
</joint>

<joint name="Rthumb_12" type="revolute">
<origin xyz="-0.014749999999999992284 0.0067499999999999921174 -0.0077500000000000207612" rpy="-1.570796326794896558 0.1278135441885557555 -9.7711416361414100955e-15" />
<parent link="part_1_13" />
<child link="part_1_14" />
<axis xyz="0 0 1"/>
<limit effort="1" velocity="20" lower="0" upper="1.570796326794896558"/>
<joint_properties friction="0.0"/>
</joint>

<joint name="Rthumb_01" type="revolute">
<origin xyz="0.018462818719192957556 0.12624400835168420043 0.020375974317474648823" rpy="1.0663166621722175442 1.005735711728976689 3.1415926535897891192" />
<parent link="right_-forearm_and_palm_subassembly" />
<child link="part_1_13" />
<axis xyz="0 0 1"/>
<limit effort="1" velocity="20" lower="-0.64577182323790194296" upper="0.64577182323790194296"/>
<joint_properties friction="0.0"/>
</joint>


</robot>
